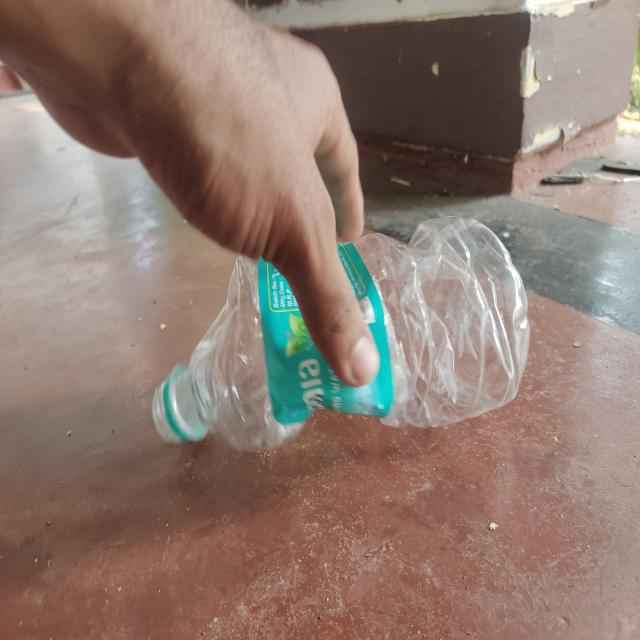plastic: (150, 218, 530, 454)
